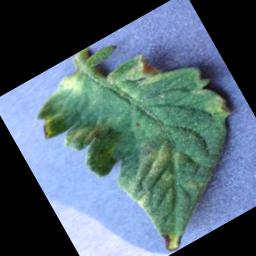Leaf_Mold: (114, 46, 170, 98), (43, 64, 95, 112), (199, 91, 235, 125), (156, 225, 188, 255), (38, 120, 57, 140)
